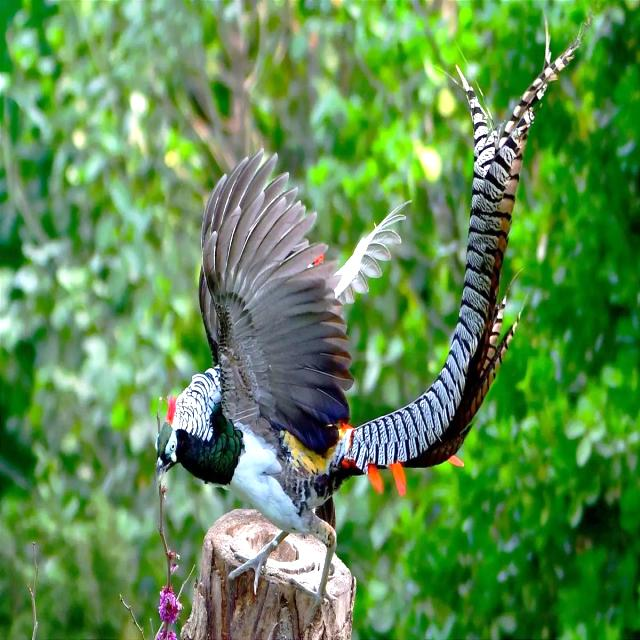Chrysolophus amherstiae: (344, 23, 584, 474)
